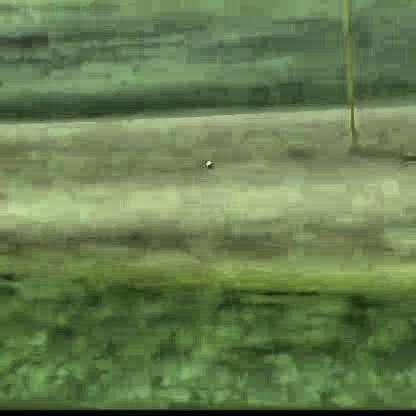golfball: (202, 157, 212, 167)
